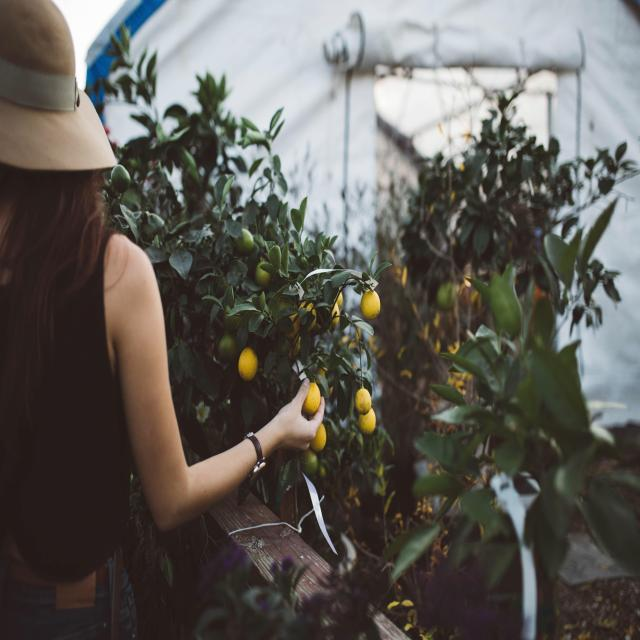Jeruk Belum Matang: (255, 260, 274, 288), (220, 335, 238, 361), (236, 228, 254, 254)
Jeruk Sudah Matang: (239, 348, 259, 382), (361, 288, 382, 319), (303, 382, 321, 416), (358, 404, 376, 436), (310, 422, 326, 452), (355, 388, 372, 416), (300, 300, 317, 328), (330, 303, 340, 324), (337, 292, 344, 310)
